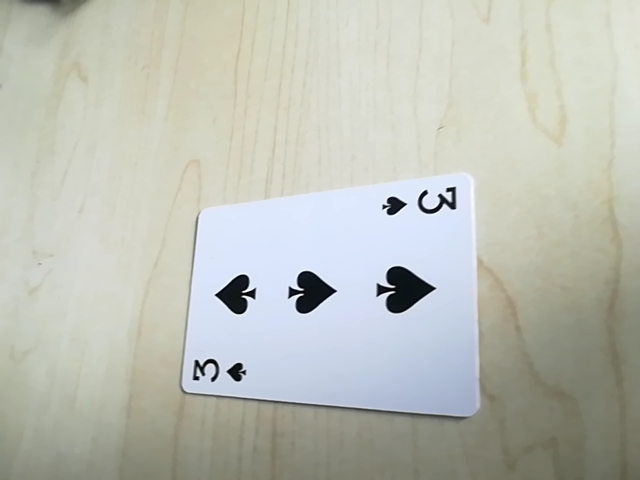ht 3: (379, 182, 463, 225), (185, 350, 252, 391)
